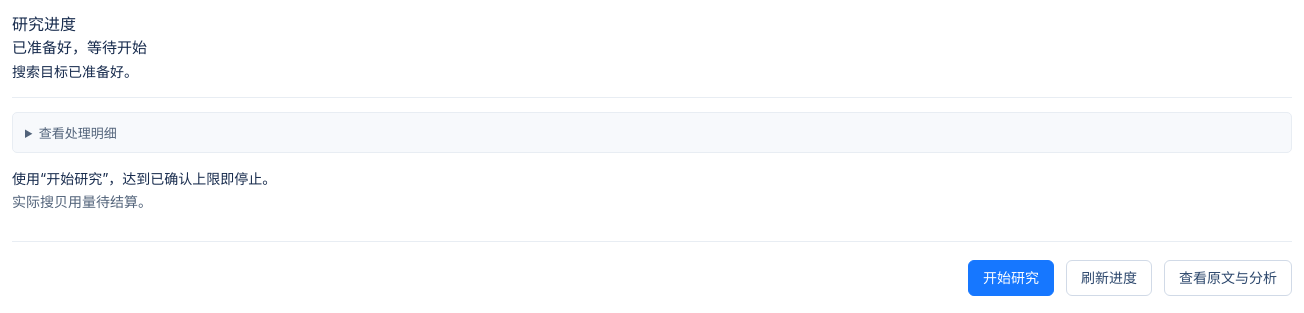
Test: starts once and polls existing background work; leaving stops observation, not the server
This screenshot has width=1304, height=313.
Click the button "开始研究" at (1011, 278), box top-left (968, 260), bottom-right (1054, 296)
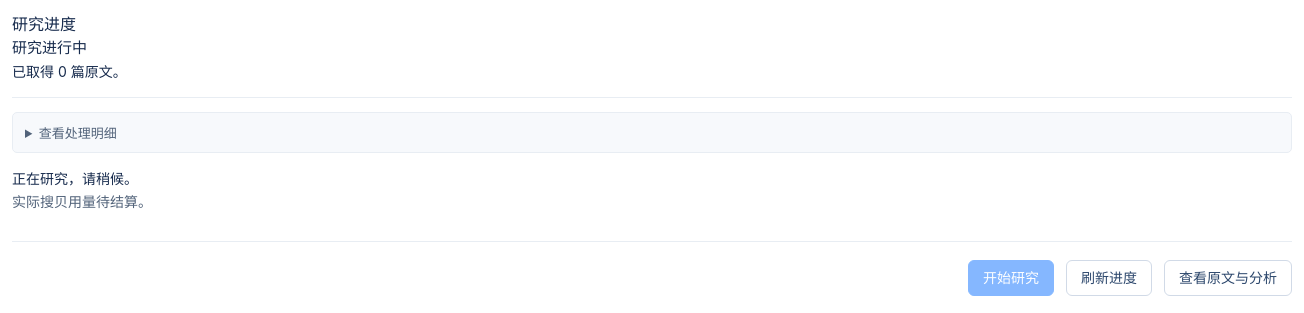
Expected: the heading "研究进行中" is shown, top-left (12, 38), bottom-right (87, 57)
